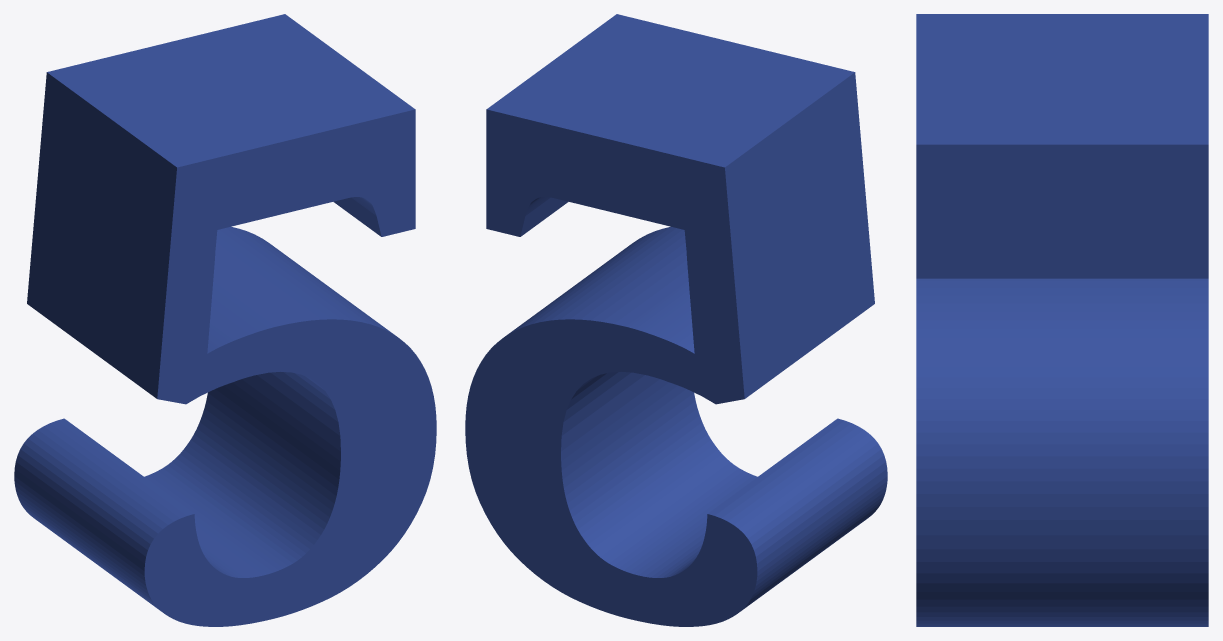
File: tinker.obj
The picture shows the model from 3 angles, left to right: view 1: azimuth 30°, elevation 25°; view 2: azimuth 150°, elevation 25°; view 3: azimuth 270°, elevation 25°; orthographic projection. The views are drawn at different scales.
Visible parts, largest first — view 1: obj_0; view 2: obj_0; view 3: obj_0.
Boxes of the visible parts, x1=… form: obj_0: x1=14, y1=14, x2=436, y2=626; obj_0: x1=465, y1=14, x2=887, y2=626; obj_0: x1=916, y1=14, x2=1208, y2=626.
Bounding box in the file's own units: 72.39 × 112 × 55.94.
